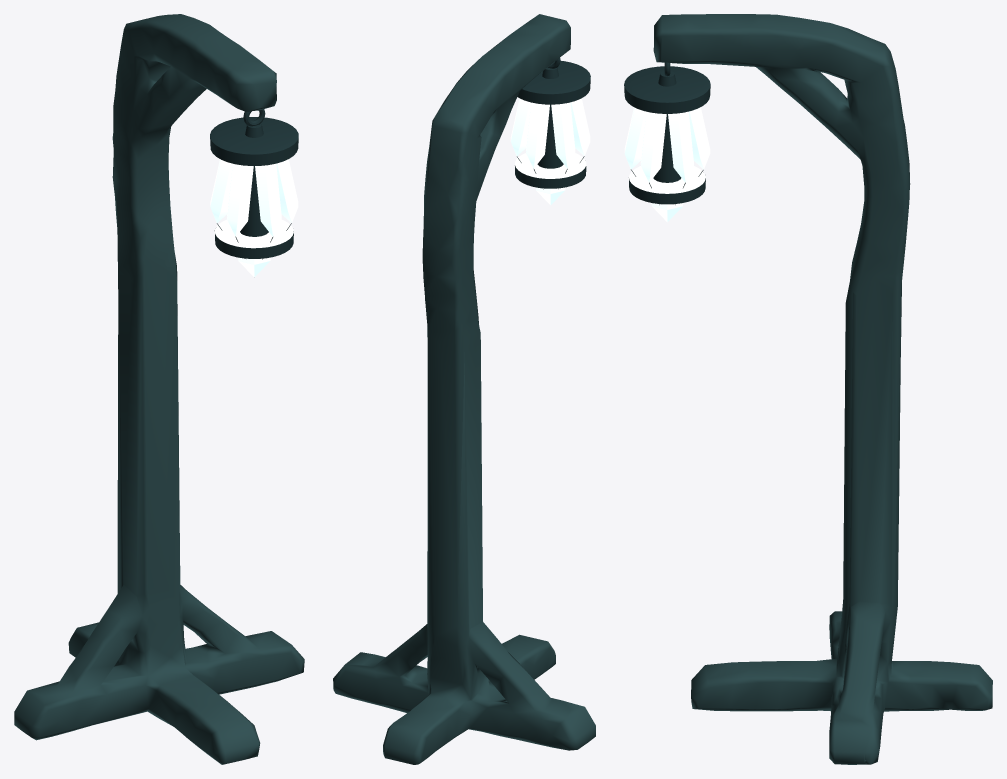
The model's file is prop_lamp_glow_stand.fbx.
3 renders of one model, left to right at view 1: azimuth 30°, elevation 25°; view 2: azimuth 150°, elevation 25°; view 3: azimuth 270°, elevation 25°, orthographic. The views are drawn at different scales.
Visible parts, largest first — view 1: LampStand_Base, Lantern_Crystal; view 2: LampStand_Base, Lantern_Crystal; view 3: LampStand_Base, Lantern_Crystal.
Boxes of the visible parts, bbox=[...] form: LampStand_Base: bbox=[14, 14, 304, 764]; Lantern_Crystal: bbox=[210, 109, 298, 277]; LampStand_Base: bbox=[333, 14, 595, 764]; Lantern_Crystal: bbox=[510, 58, 590, 205]; LampStand_Base: bbox=[653, 14, 992, 764]; Lantern_Crystal: bbox=[624, 62, 710, 222].
Bounding box in the file's own units: 0.7071 × 1.74 × 0.8514.
